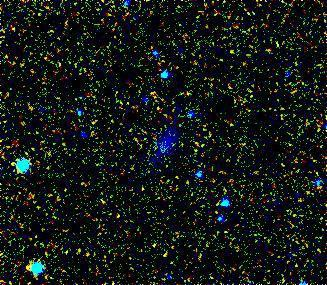star: (12, 253, 42, 283)
